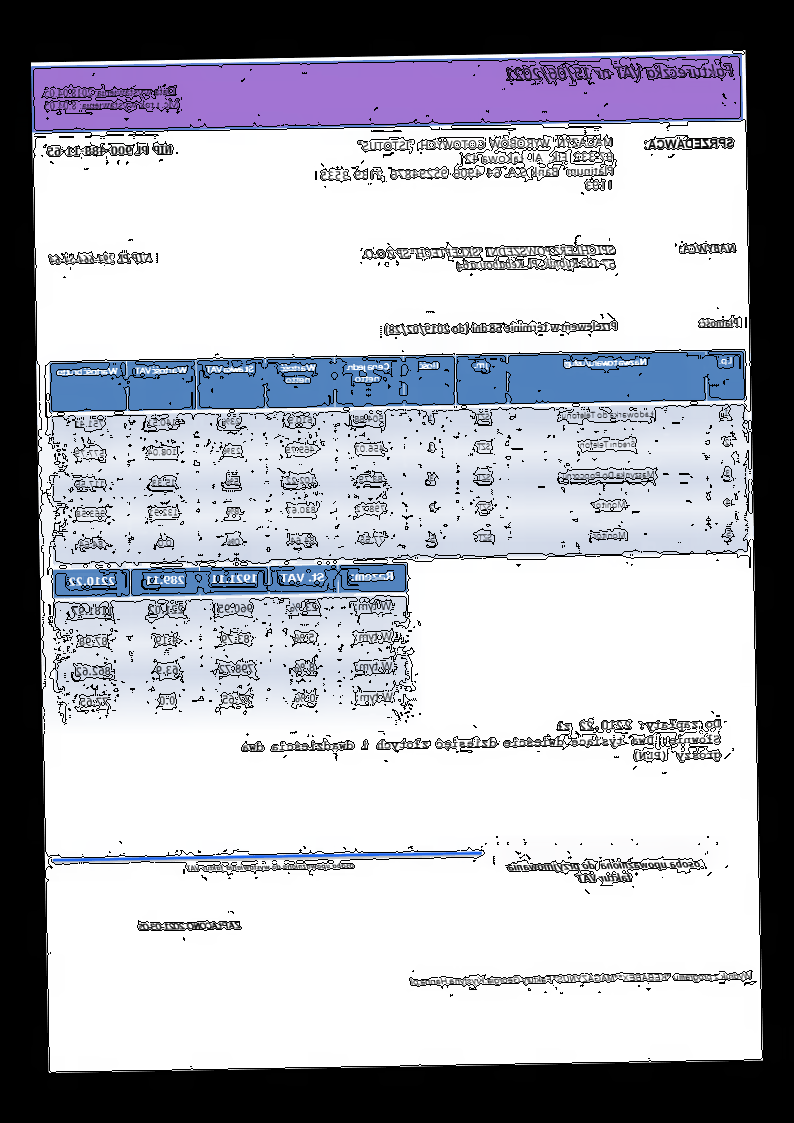Table: (48, 349, 750, 566), (51, 562, 410, 721)
TextBox: (238, 716, 724, 771), (318, 132, 616, 196), (360, 242, 617, 275), (408, 968, 754, 988), (505, 855, 703, 887), (504, 61, 735, 84), (42, 82, 181, 112), (384, 320, 619, 336), (184, 860, 356, 874), (46, 142, 176, 159), (642, 133, 736, 153), (49, 250, 154, 267), (138, 917, 243, 934), (678, 241, 738, 256), (697, 315, 740, 331)
